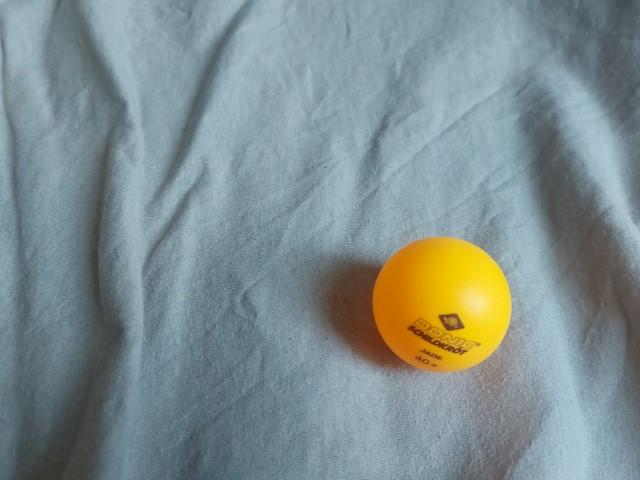oball: (365, 230, 519, 379)
